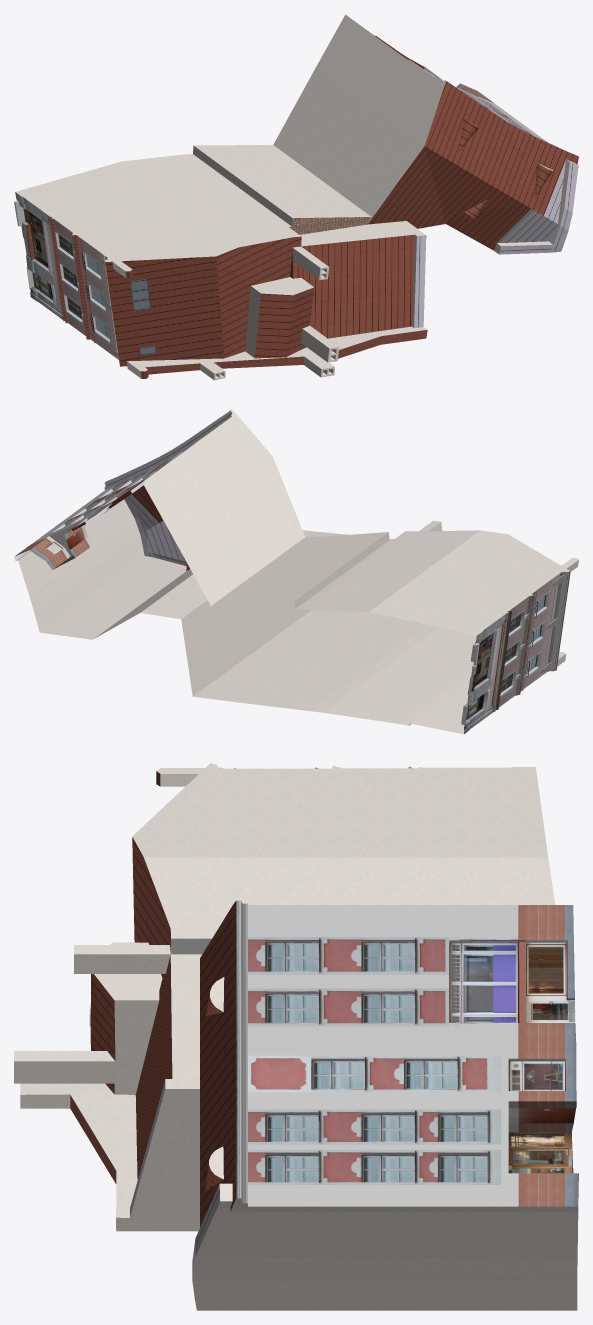
Rendered from Suur_Karja_9.obj.
3 views of the same model, one above another, from view 1: azimuth 30°, elevation 25°; view 2: azimuth 150°, elevation 25°; view 3: azimuth 270°, elevation 25° (orthographic). The views are drawn at different scales.
Visible parts, largest first — view 1: Suur_Karja_9; view 2: Suur_Karja_9; view 3: Suur_Karja_9.
Boxes of the visible parts, <box> form: Suur_Karja_9: <box>14,14,578,380</box>; Suur_Karja_9: <box>14,409,578,734</box>; Suur_Karja_9: <box>14,763,578,1310</box>.
Bounding box in the file's own units: 37.46 × 16.26 × 22.09.
